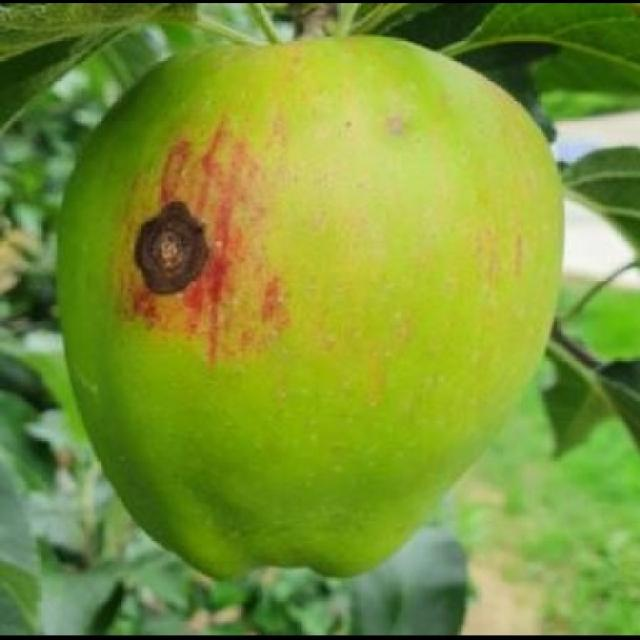Rotten Apple: (51, 32, 569, 590)
